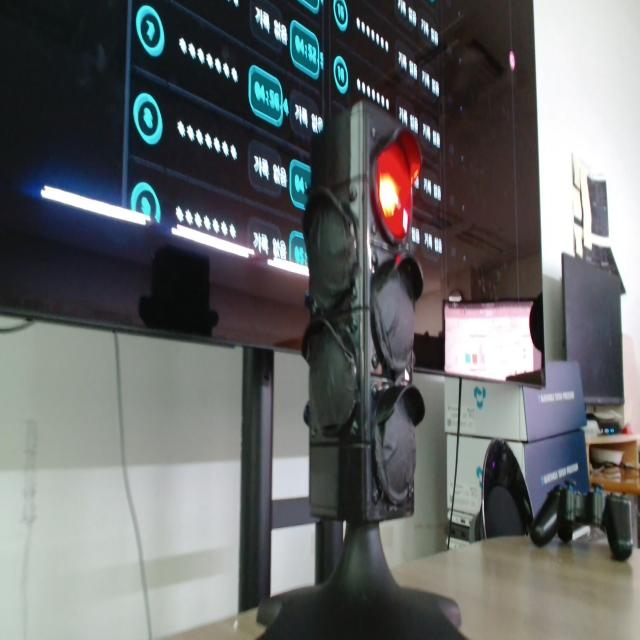red_light: (376, 133, 420, 241)
